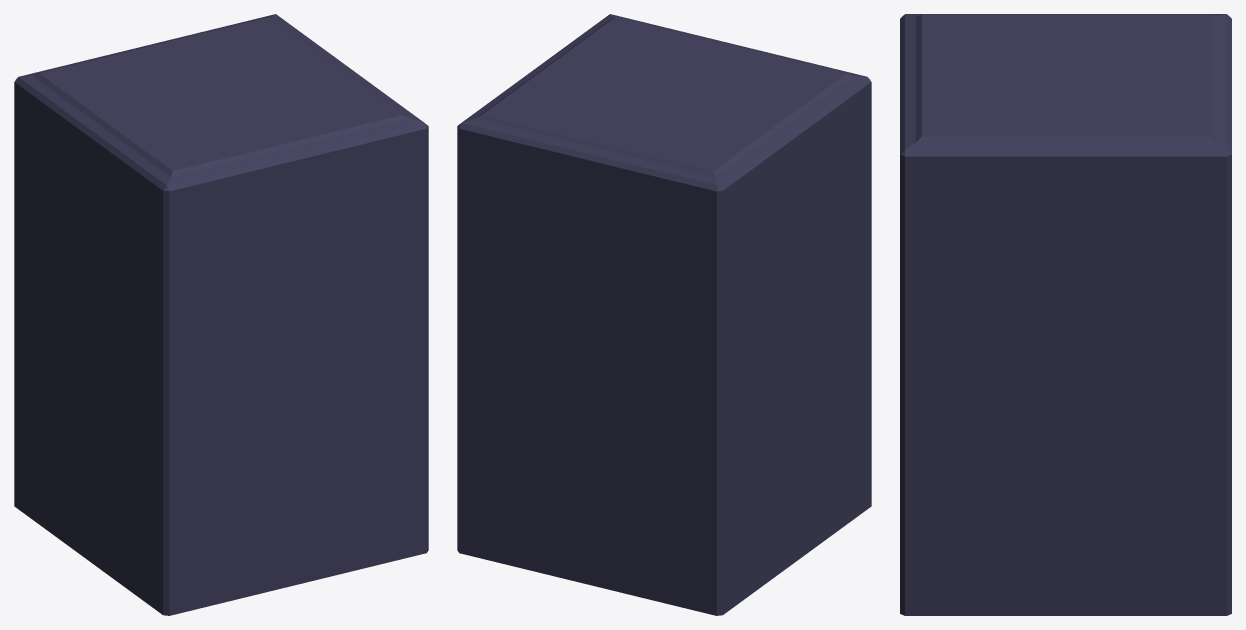
Rendered from Tile-Space-4.fbx.
3 views of the same model, side by side, from view 1: azimuth 30°, elevation 25°; view 2: azimuth 150°, elevation 25°; view 3: azimuth 270°, elevation 25° (orthographic). The views are drawn at different scales.
Visible parts, largest first — view 1: Tile04; view 2: Tile04; view 3: Tile04.
Boxes of the visible parts, bbox=[...] form: Tile04: bbox=[14, 14, 428, 615]; Tile04: bbox=[457, 14, 871, 615]; Tile04: bbox=[900, 14, 1231, 615].
Bounding box in the file's own units: 192 × 300 × 192.
